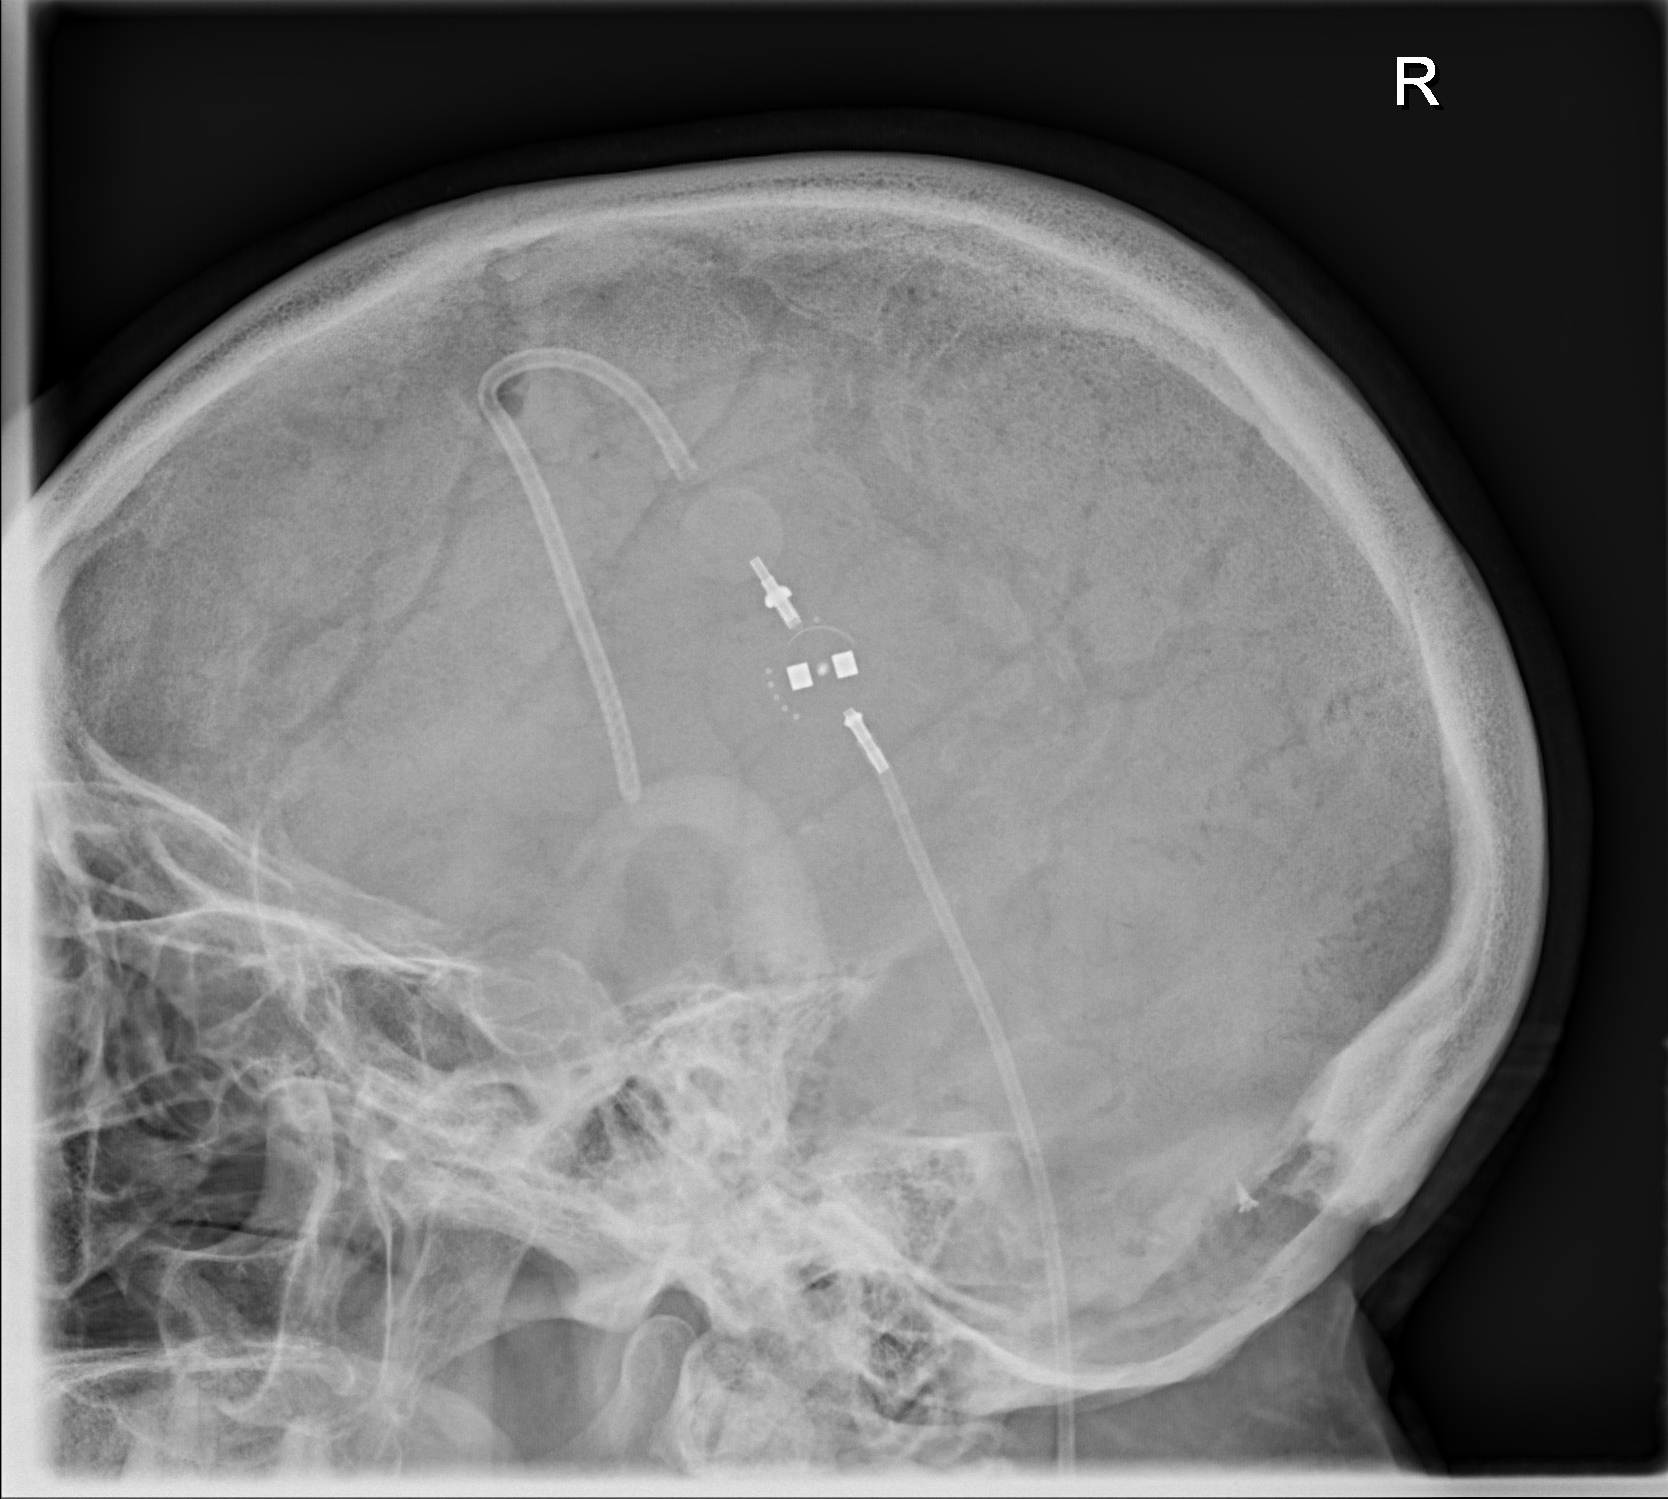Sophysa Polaris: (759, 602, 890, 745)
